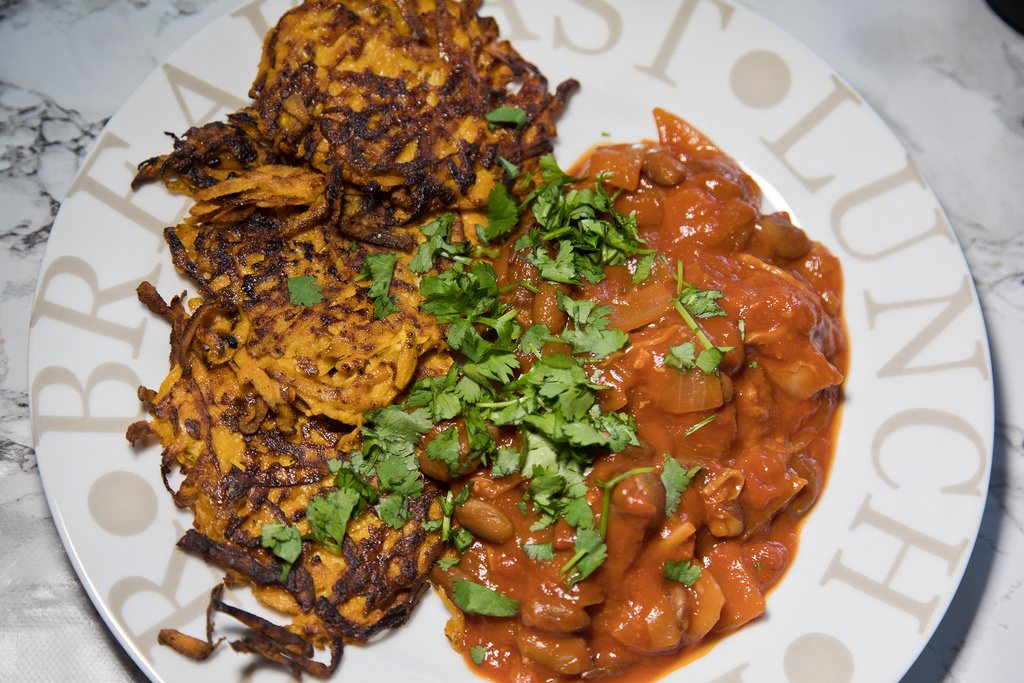chopped lettuce: (458, 307, 499, 397)
